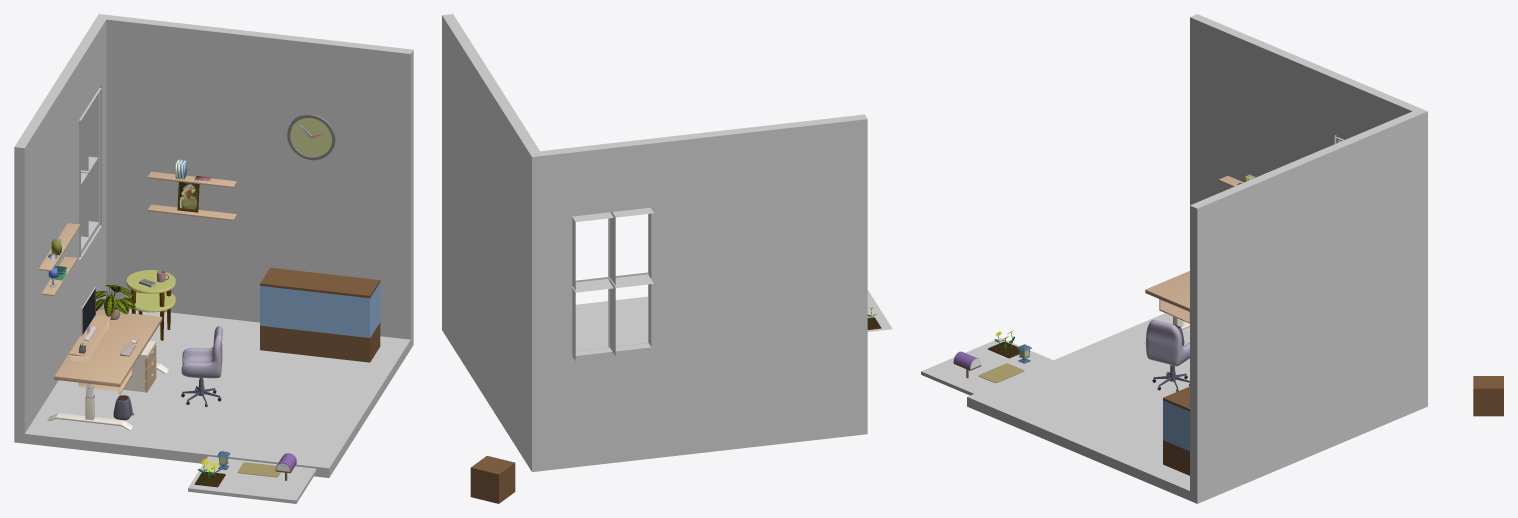
File: Finale Version 5.glb
3 renders of one model, left to right at view 1: azimuth 30°, elevation 25°; view 2: azimuth 150°, elevation 25°; view 3: azimuth 270°, elevation 25°, orthographic. The views are drawn at different scales.
Parts seen in each view (by area): view 1: Body, Aquarium, Desks, Shelves, Mini Floor, Table Stuff, Floor Items, Clock, Chair, Computer, doormat; view 2: Body, Cube; view 3: Body, Mini Floor, Aquarium, Chair, Desks, Cube.
Part boxes in pixels (x1,y1,x2,y2): Body: [14, 14, 413, 477]; Aquarium: [260, 267, 380, 362]; Desks: [47, 270, 175, 430]; Shelves: [38, 159, 236, 295]; Mini Floor: [188, 456, 316, 503]; Table Stuff: [69, 270, 168, 362]; Floor Items: [113, 340, 221, 420]; Clock: [287, 114, 335, 160]; Chair: [181, 326, 222, 378]; Computer: [81, 287, 96, 340]; doormat: [237, 462, 280, 477]; Body: [442, 14, 867, 471]; Cube: [470, 456, 515, 503]; Body: [967, 14, 1427, 503]; Mini Floor: [921, 338, 1053, 395]; Aquarium: [1163, 386, 1189, 475]; Chair: [1146, 320, 1189, 366]; Desks: [1144, 271, 1189, 343]; Cube: [1473, 376, 1503, 416].
Size of the model in its own units: 30.21 by 21.39 by 38.21.
Materials: 72 (2 with a texture image).
